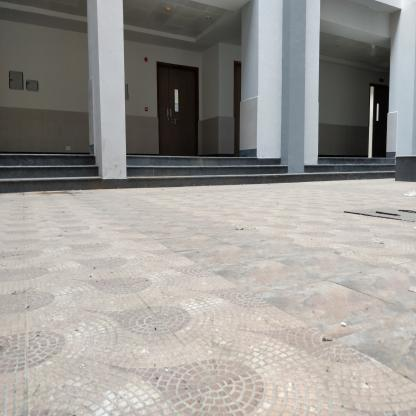stairs: (131, 154, 255, 192), (1, 154, 94, 197), (320, 157, 392, 184)
